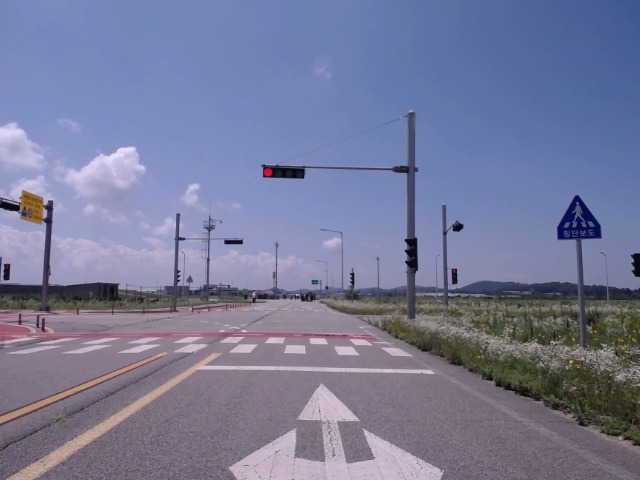red_4: (263, 167, 304, 179)
